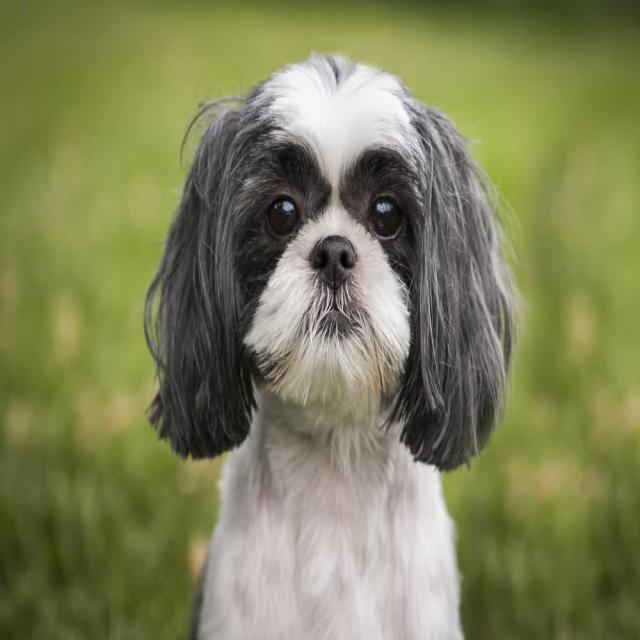Dog: (140, 37, 521, 492)
